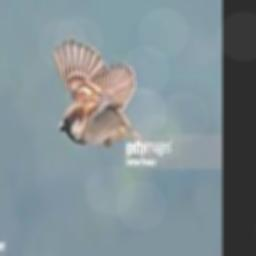Sparrow: (52, 36, 146, 150)
